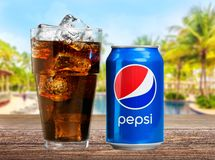pepsi: (112, 63, 156, 109)
